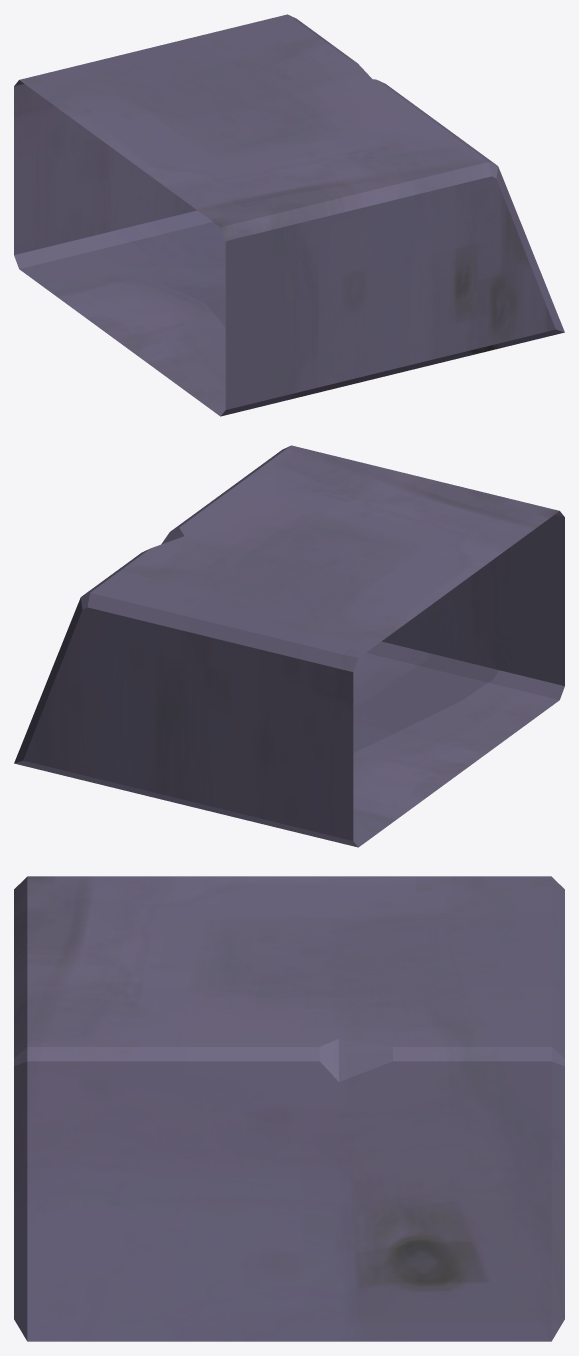
The model's file is Step_Bot_solo_01.fbx.
The picture shows the model from 3 angles, top to bottom: view 1: azimuth 30°, elevation 25°; view 2: azimuth 150°, elevation 25°; view 3: azimuth 270°, elevation 25°; orthographic projection. The views are drawn at different scales.
Visible parts, largest first — view 1: Step_Bot_solo_01; view 2: Step_Bot_solo_01; view 3: Step_Bot_solo_01.
Boxes of the visible parts, bbox=[...] form: Step_Bot_solo_01: bbox=[14, 14, 564, 416]; Step_Bot_solo_01: bbox=[14, 445, 564, 847]; Step_Bot_solo_01: bbox=[14, 876, 564, 1341].
Size of the model in its own units: 89.95 by 47.23 by 95.71.
